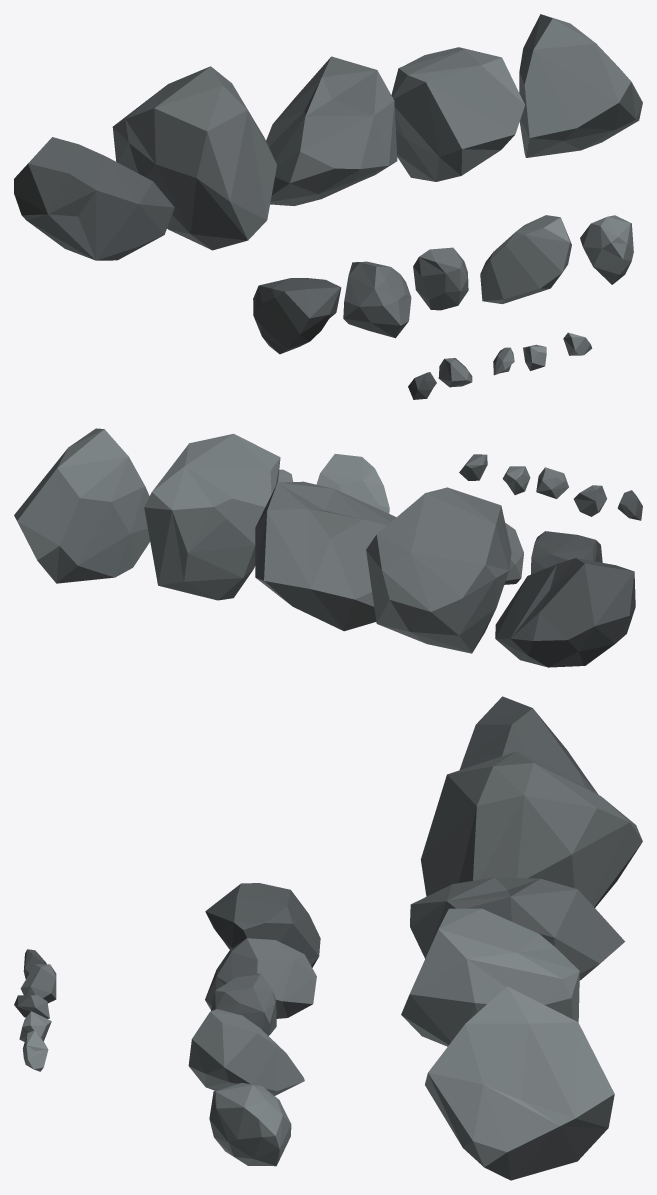
File: Rocks.FBX
The picture shows the model from 3 angles, top to bottom: view 1: azimuth 30°, elevation 25°; view 2: azimuth 150°, elevation 25°; view 3: azimuth 270°, elevation 25°; orthographic projection. The views are drawn at different scales.
Parts seen in each view (by area): view 1: rock12, rock13, rock14, rock11, rock15, rock9, rock6, rock7, rock8, rock10, rock2, rock1; view 2: rock12, rock14, rock13, rock15, rock11, rock9, rock6, rock3, rock7, rock2, rock4, rock5 (+1 smaller); view 3: rock15, rock12, rock14, rock13, rock9, rock6, rock10, rock11, rock7, rock8, rock2, rock5.
Boxes of the visible parts, x1,y1,x2,y2 form: rock12: (112,66,276,250); rock13: (266,56,397,205); rock14: (391,47,524,181); rock11: (14,137,174,260); rock15: (519,14,642,157); rock9: (480,215,571,304); rock6: (253,278,341,354); rock7: (343,261,411,338); rock8: (413,247,468,310); rock10: (580,215,633,284); rock2: (438,358,472,387); rock1: (408,372,436,399); rock12: (366,487,511,653); rock14: (144,433,280,600); rock13: (255,481,396,631); rock15: (14,428,150,583); rock11: (495,558,635,667); rock9: (316,454,389,513); rock6: (531,531,602,574); rock3: (536,467,568,498); rock7: (504,523,523,584); rock2: (573,485,606,516); rock4: (502,466,530,494); rock5: (459,454,487,480); rock15: (425,986,614,1180); rock12: (420,751,642,907); rock14: (401,908,579,1046); rock13: (410,877,625,980); rock9: (188,1009,304,1095); rock6: (205,883,320,967); rock10: (209,1083,291,1166); rock11: (459,696,597,793); rock7: (205,938,316,1018); rock8: (211,973,276,1035); rock2: (20,964,56,1003); rock5: (23,1030,48,1071).
Bounding box in the file's own units: 206 × 63.78 × 153.
